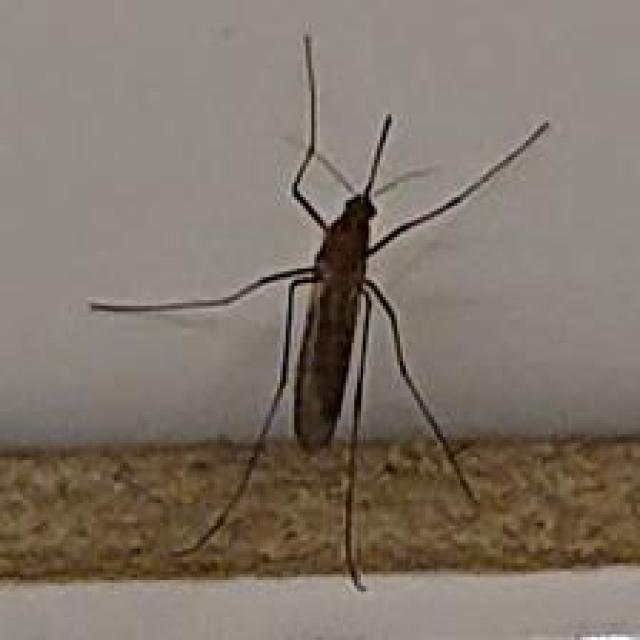Culex: (86, 30, 551, 593)
